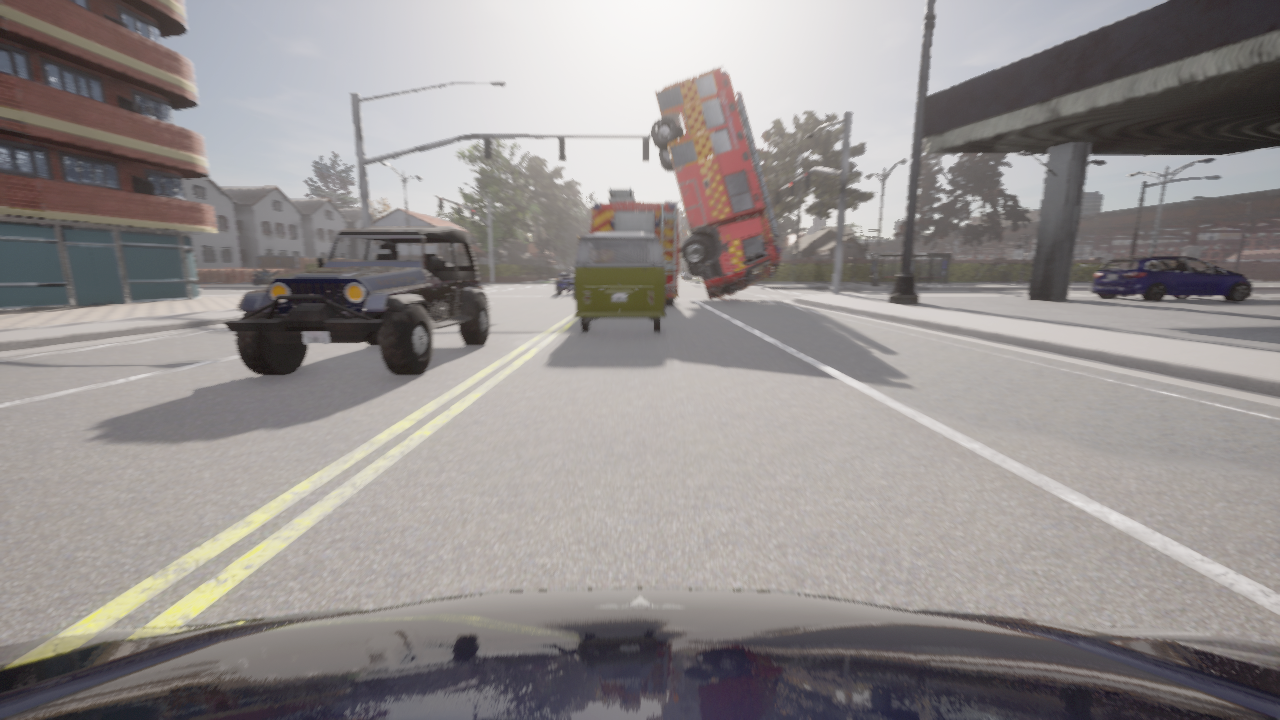cyclist: (0, 588, 1279, 719), (222, 227, 490, 375), (650, 65, 780, 299), (590, 187, 679, 306), (573, 232, 665, 331), (1091, 256, 1251, 300), (556, 267, 573, 294), (253, 271, 277, 285)
